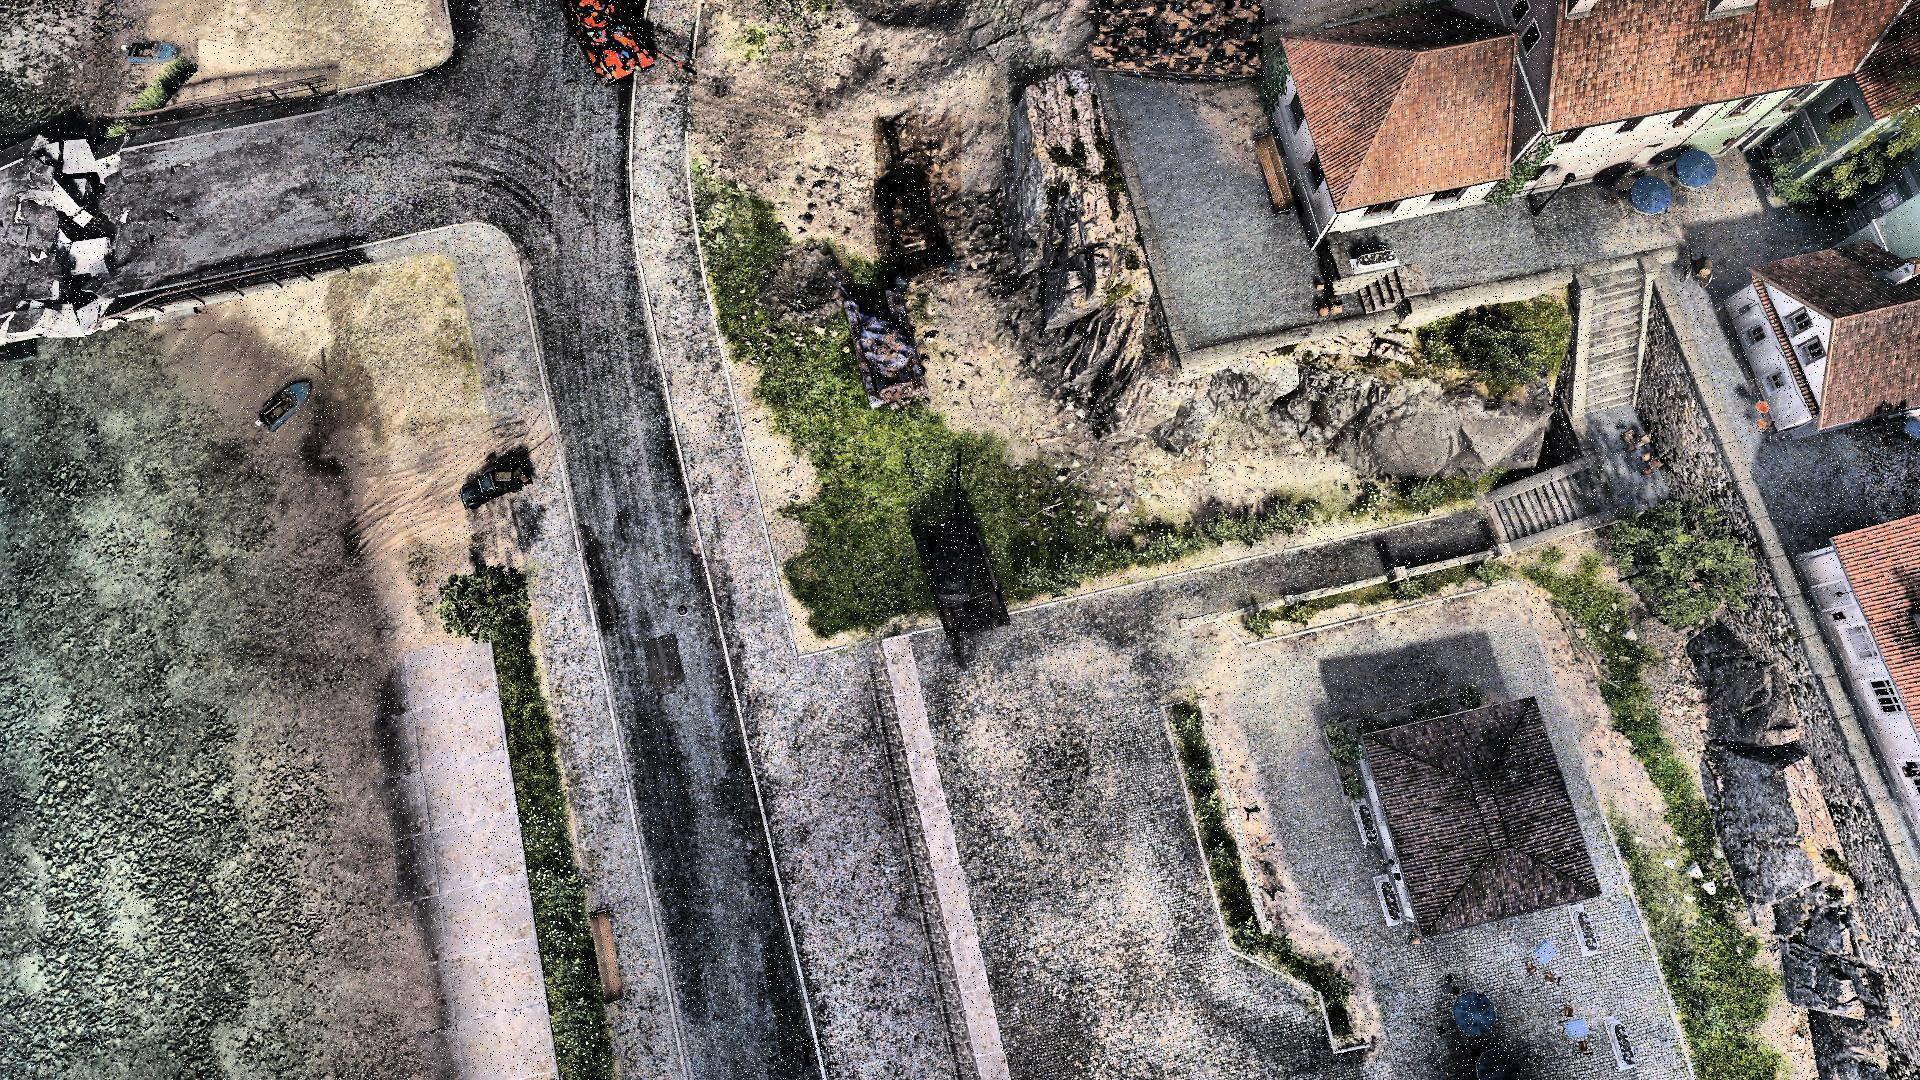military-vehicle: (913, 452, 1005, 637), (875, 115, 962, 283), (563, 0, 697, 85), (842, 285, 927, 407)
